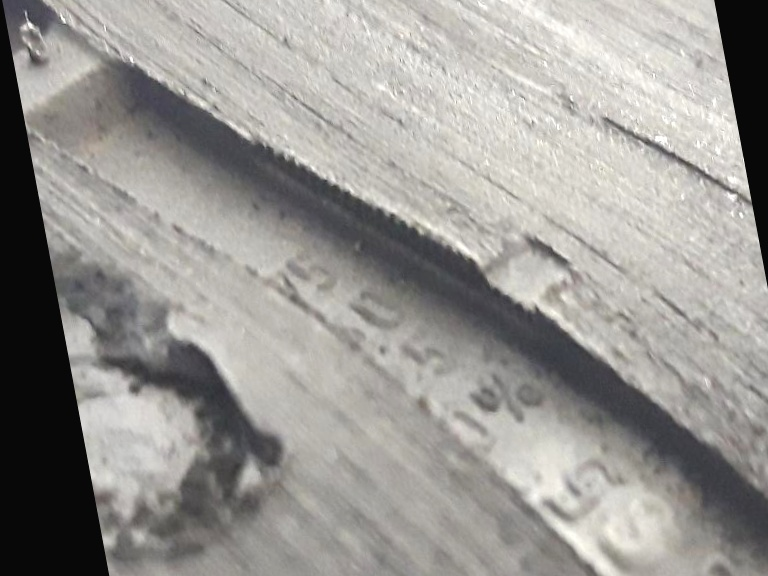temoin:0: (431, 201, 601, 351)
